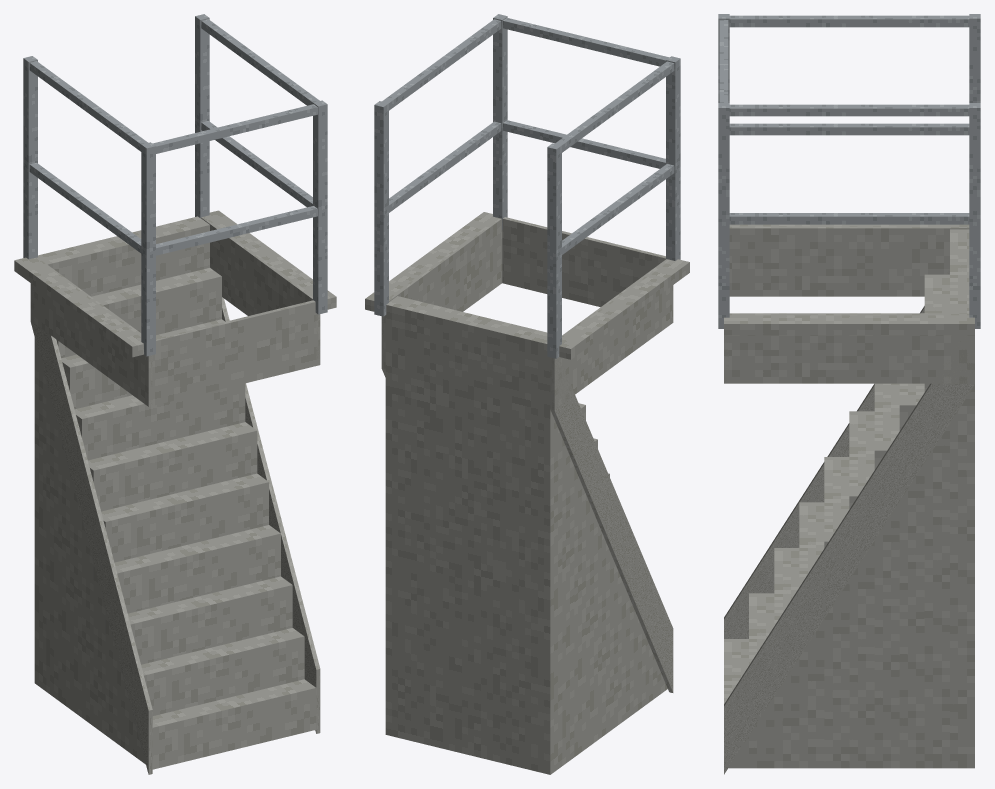
File: t_stairs_down_no_roof.glb
3 renders of one model, left to right at view 1: azimuth 30°, elevation 25°; view 2: azimuth 150°, elevation 25°; view 3: azimuth 270°, elevation 25°, orthographic. The views are drawn at different scales.
Parts seen in each view (by area): view 1: block_lining-s, block_down5, block_down4, block_down9, block_down3, block_down6, block_down2, block_dstringer-1, block_down1, block_down0, block_down8, block_down7 (+15 smaller); view 2: block_down9, block_dstringer-1, block_lining-s, block_lining1, block_lining-1, block_down8, block_floor-1, block_down7, block_post0.42,-0.5, block_post-0.42,-0.5, block_down6, block_post-0.42,0.5 (+13 smaller); view 3: block_dstringer1, block_lining-1, block_lining1, block_down9, block_down8, block_down6, block_down7, block_down5, block_down4, block_floor1, block_down3, block_dstringer-1 (+12 smaller).
Part boxes in pixels (x1,y1,x2,y2): block_lining-s: [146, 300, 320, 406]; block_down5: [82, 422, 257, 725]; block_down4: [93, 473, 268, 734]; block_down9: [34, 216, 209, 691]; block_down3: [105, 525, 280, 743]; block_down6: [70, 383, 245, 717]; block_down2: [117, 576, 292, 751]; block_dstringer-1: [30, 283, 152, 774]; block_down1: [129, 628, 304, 760]; block_down0: [141, 679, 316, 769]; block_down8: [46, 268, 221, 699]; block_down7: [58, 319, 224, 708]; block_down9: [385, 296, 562, 774]; block_dstringer-1: [550, 357, 673, 692]; block_lining-s: [502, 217, 673, 323]; block_lining1: [381, 218, 502, 368]; block_lining-1: [550, 259, 670, 409]; block_down8: [562, 438, 574, 765]; block_floor-1: [559, 259, 689, 359]; block_down7: [574, 403, 585, 756]; block_post0.42,-0.5: [374, 101, 388, 316]; block_post-0.42,-0.5: [547, 143, 561, 358]; block_down6: [586, 438, 597, 748]; block_post-0.42,0.5: [666, 56, 680, 260]; block_dstringer1: [724, 336, 974, 774]; block_lining-1: [729, 226, 969, 296]; block_lining1: [724, 313, 974, 383]; block_down9: [950, 229, 974, 768]; block_down8: [924, 274, 949, 768]; block_down6: [874, 383, 899, 768]; block_down7: [899, 383, 924, 768]; block_down5: [849, 411, 874, 768]; block_down4: [824, 457, 849, 768]; block_floor1: [724, 315, 974, 335]; block_down3: [799, 502, 824, 768]; block_dstringer-1: [724, 269, 949, 638].
Size of the model in its own units: 1 by 2.94 by 1.04.
2 materials, 2 textured.
